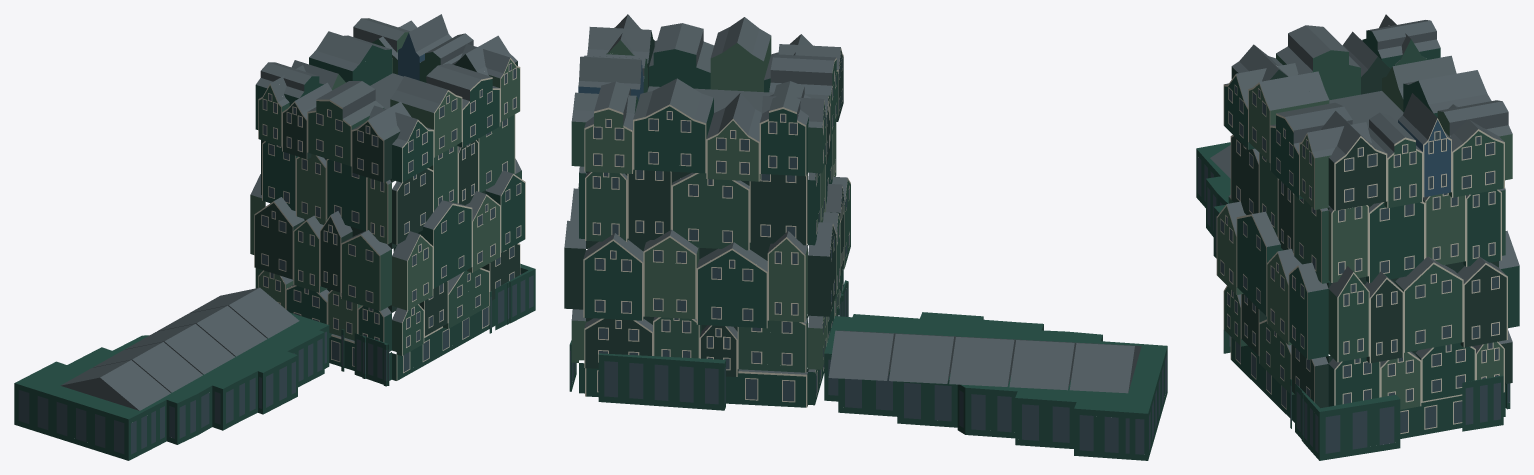
File: inntel-zaandam-far.glb
The picture shows the model from 3 angles, left to right: view 1: azimuth 30°, elevation 25°; view 2: azimuth 150°, elevation 25°; view 3: azimuth 270°, elevation 25°; orthographic projection. The views are drawn at different scales.
Parts seen in each view (by area): view 1: inntel-zaandam-0-green1, inntel-zaandam-0-roof, inntel-zaandam-0-glass, inntel-zaandam-0-green2, inntel-zaandam-0-green4, inntel-zaandam-0-green3, inntel-zaandam-0-white, inntel-zaandam-0-blue; view 2: inntel-zaandam-0-green1, inntel-zaandam-0-roof, inntel-zaandam-0-glass, inntel-zaandam-0-green3, inntel-zaandam-0-green2, inntel-zaandam-0-green4, inntel-zaandam-0-white; view 3: inntel-zaandam-0-green1, inntel-zaandam-0-roof, inntel-zaandam-0-green2, inntel-zaandam-0-green4, inntel-zaandam-0-white, inntel-zaandam-0-green3, inntel-zaandam-0-glass, inntel-zaandam-0-blue.
Boxes of the visible parts, x1,y1,x2,y2 form: inntel-zaandam-0-green1: [14, 45, 535, 460]; inntel-zaandam-0-roof: [60, 14, 521, 410]; inntel-zaandam-0-glass: [18, 64, 533, 454]; inntel-zaandam-0-green2: [255, 39, 521, 355]; inntel-zaandam-0-green4: [255, 54, 519, 335]; inntel-zaandam-0-green3: [250, 32, 519, 340]; inntel-zaandam-0-white: [254, 58, 525, 380]; inntel-zaandam-0-blue: [398, 33, 424, 80]; inntel-zaandam-0-green1: [569, 49, 1167, 460]; inntel-zaandam-0-roof: [564, 14, 1141, 393]; inntel-zaandam-0-glass: [570, 54, 1166, 454]; inntel-zaandam-0-green3: [571, 36, 838, 369]; inntel-zaandam-0-green2: [571, 59, 850, 372]; inntel-zaandam-0-green4: [564, 30, 844, 376]; inntel-zaandam-0-white: [583, 48, 850, 407]; inntel-zaandam-0-green1: [1196, 30, 1519, 460]; inntel-zaandam-0-roof: [1210, 14, 1519, 369]; inntel-zaandam-0-green2: [1224, 39, 1505, 394]; inntel-zaandam-0-green4: [1231, 57, 1512, 408]; inntel-zaandam-0-white: [1216, 74, 1507, 433]; inntel-zaandam-0-green3: [1217, 66, 1512, 409]; inntel-zaandam-0-glass: [1197, 86, 1509, 453]; inntel-zaandam-0-blue: [1398, 120, 1450, 196].
Size of the model in its own units: 76.63 by 39 by 35.95.
